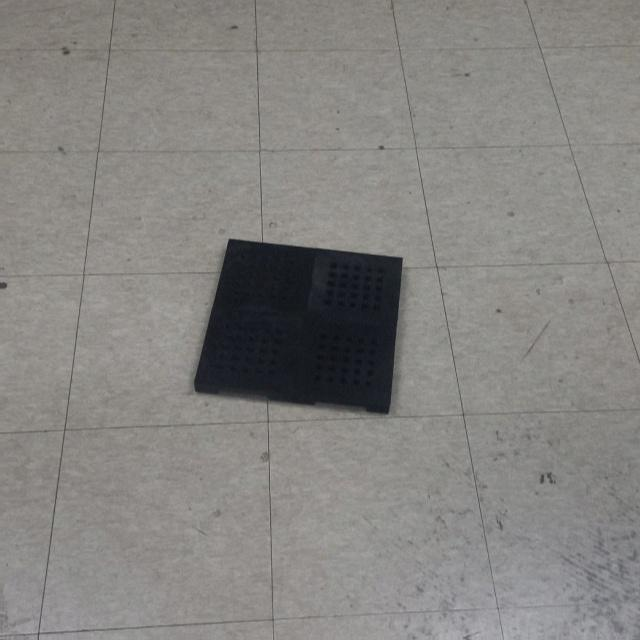pallet: (186, 232, 404, 422)
